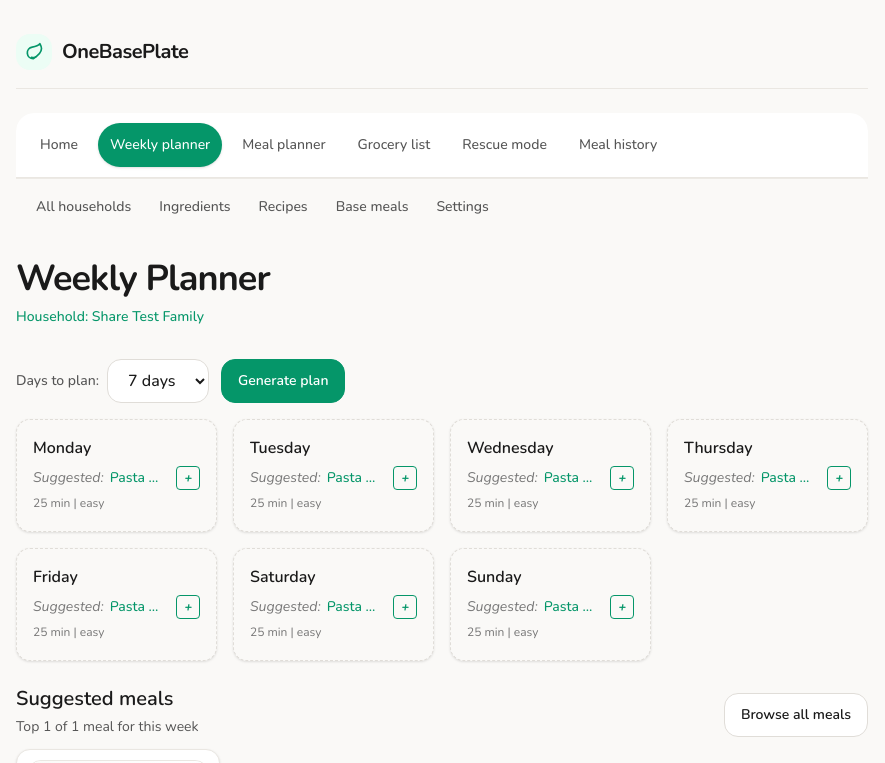
F042 - Share weekly plan as image › Share button state › generates a plan then shows Share button
Step 1. Click the button with test id "generate-btn" → (283, 381), box [221,359,345,403]
(page scrolled)
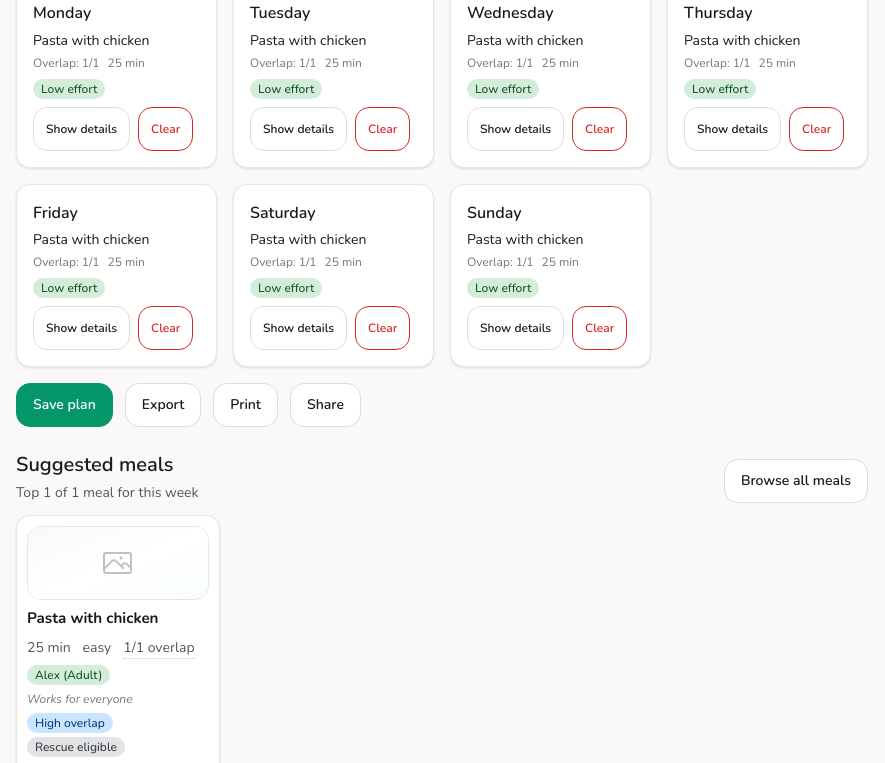
Expected: the button with test id "share-btn" is shown, [290,383,361,427]
